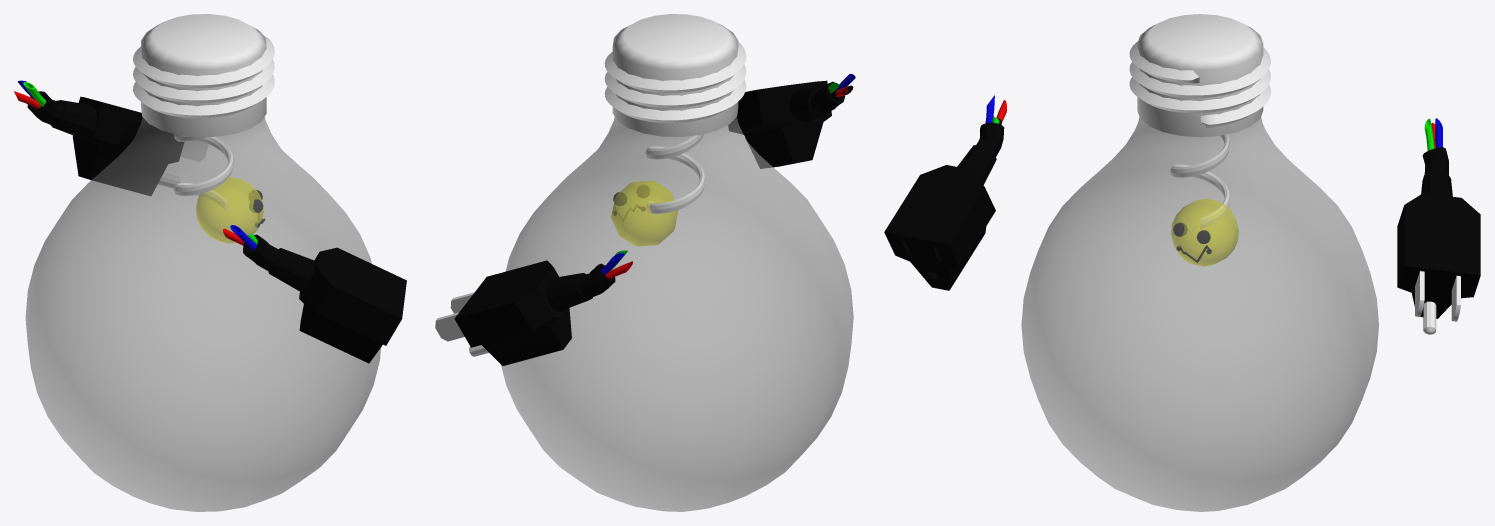
File: LuzBot.fbx
3 renders of one model, left to right at view 1: azimuth 30°, elevation 25°; view 2: azimuth 150°, elevation 25°; view 3: azimuth 270°, elevation 25°, orthographic.
Parts seen in each view (by area): view 1: polySurface1, polySurface2, polySurface20, polySurface25, pHelix1, pSphere2, pHelix2, polySurface28, polySurface18, polySurface29; view 2: polySurface1, polySurface20, polySurface2, pHelix1, polySurface25, pSphere2, pHelix2, polySurface28; view 3: polySurface1, polySurface20, polySurface2, polySurface25, pHelix1, pSphere2, pHelix2, polySurface28.
Part boxes in pixels (<box>): polySurface1: <box>25,117,380,511</box>; polySurface2: <box>141,14,266,137</box>; polySurface20: <box>27,91,208,195</box>; polySurface25: <box>299,247,406,363</box>; pHelix1: <box>133,35,274,118</box>; pSphere2: <box>196,177,263,243</box>; pHelix2: <box>174,134,233,211</box>; polySurface28: <box>268,248,316,292</box>; polySurface18: <box>14,80,45,108</box>; polySurface29: <box>249,237,275,270</box>; polySurface1: <box>501,116,853,511</box>; polySurface20: <box>435,260,615,365</box>; polySurface2: <box>612,14,738,136</box>; pHelix1: <box>604,42,746,123</box>; polySurface25: <box>728,80,831,168</box>; pSphere2: <box>611,180,678,246</box>; pHelix2: <box>645,134,705,214</box>; polySurface28: <box>789,88,830,122</box>; polySurface1: <box>1021,117,1378,511</box>; polySurface20: <box>1397,147,1480,334</box>; polySurface2: <box>1137,14,1263,137</box>; polySurface25: <box>884,165,995,290</box>; pHelix1: <box>1129,41,1270,127</box>; pSphere2: <box>1171,198,1238,266</box>; pHelix2: <box>1170,134,1230,228</box>; polySurface28: <box>957,142,996,184</box>.
Bounding box in the file's own units: 2.12 × 3.01 × 3.53.
